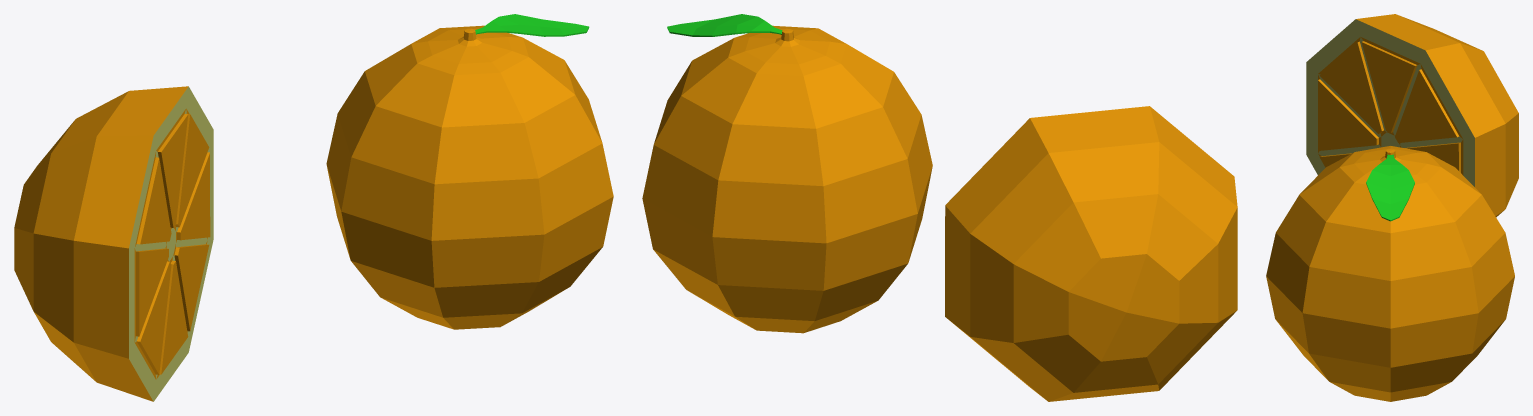
Rendered from OrangeFXB.fbx.
3 renders of one model, left to right at view 1: azimuth 30°, elevation 25°; view 2: azimuth 150°, elevation 25°; view 3: azimuth 270°, elevation 25°, orthographic. The views are drawn at different scales.
Visible parts, largest first — view 1: Orange, HOrange; view 2: Orange, HOrange; view 3: Orange, HOrange.
Boxes of the visible parts, x1=… form: Orange: x1=326, y1=14, x2=613, y2=329; HOrange: x1=14, y1=86, x2=213, y2=401; Orange: x1=642, y1=14, x2=932, y2=333; HOrange: x1=945, y1=106, x2=1237, y2=401; Orange: x1=1266, y1=146, x2=1514, y2=401; HOrange: x1=1306, y1=14, x2=1518, y2=217.
Size of the model in its own units: 17.63 by 8.26 by 8.23.
